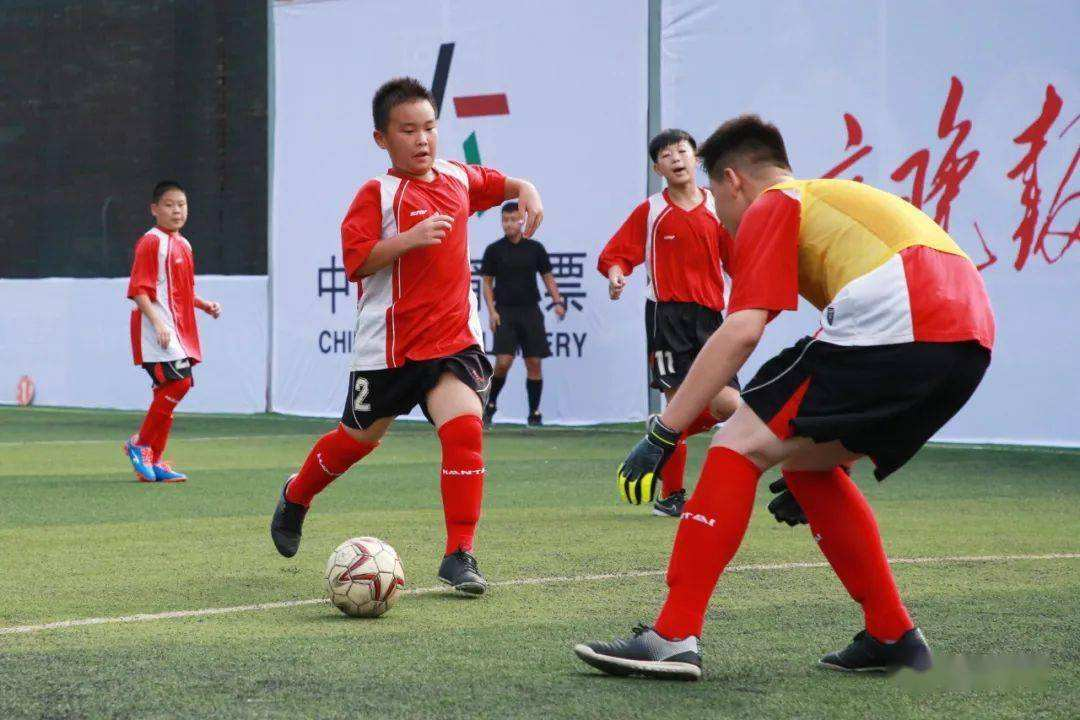football: (327, 535, 403, 617)
